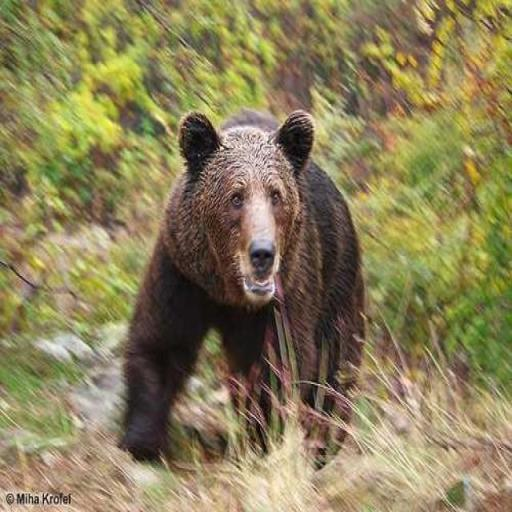Bear: (116, 105, 366, 468)
